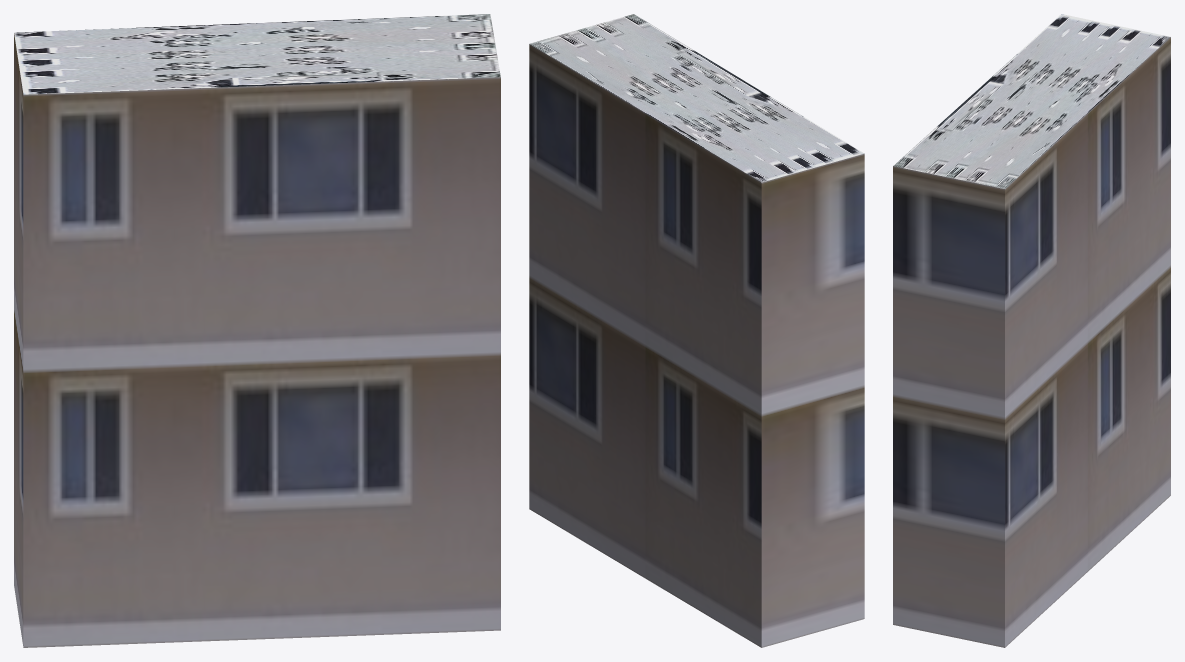
File: ResTex__5287.fbx
The picture shows the model from 3 angles, left to right: view 1: azimuth 30°, elevation 25°; view 2: azimuth 150°, elevation 25°; view 3: azimuth 270°, elevation 25°; orthographic projection. The views are drawn at different scales.
Visible parts, largest first — view 1: CityEngineMaterial_21_m, CityEngineMaterial_4_m; view 2: CityEngineMaterial_21_m, CityEngineMaterial_4_m; view 3: CityEngineMaterial_21_m, CityEngineMaterial_4_m.
Boxes of the visible parts, x1,y1,x2,y2 form: CityEngineMaterial_21_m: (14, 33, 500, 647); CityEngineMaterial_4_m: (14, 14, 500, 94); CityEngineMaterial_21_m: (529, 44, 864, 647); CityEngineMaterial_4_m: (529, 14, 864, 182); CityEngineMaterial_21_m: (893, 37, 1170, 647); CityEngineMaterial_4_m: (893, 14, 1170, 188).
Size of the model in its own units: 4.91 by 6 by 3.29.
Materials: 2 (2 with a texture image).
